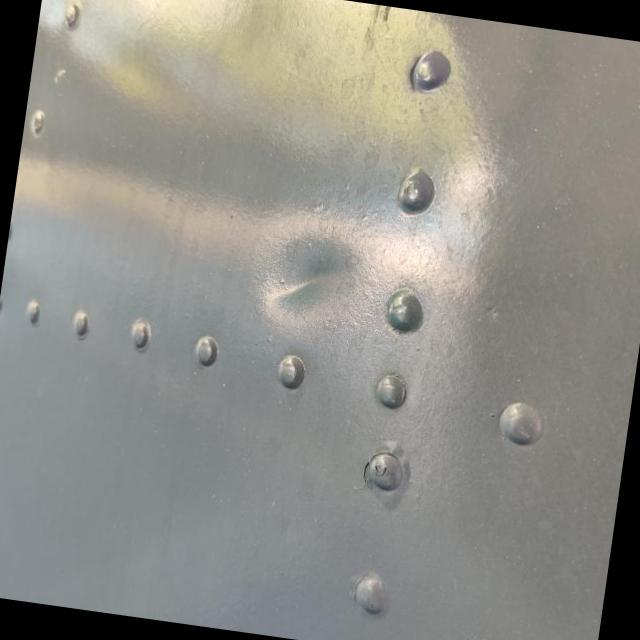Dent: (252, 212, 401, 358)
